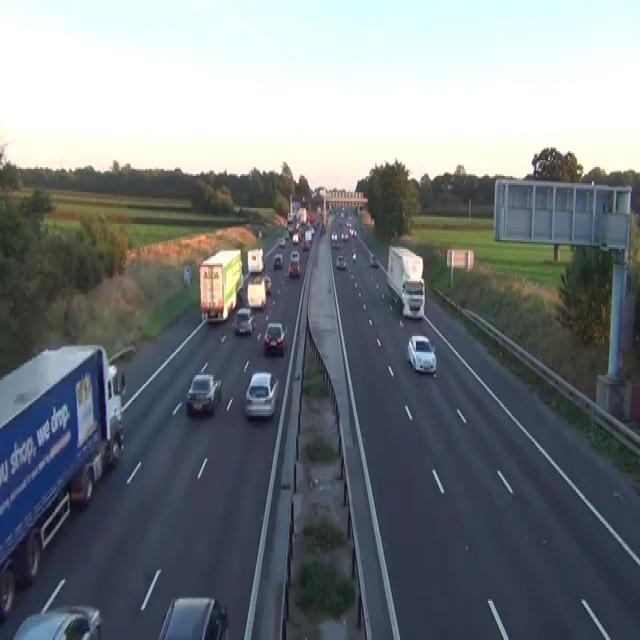Car: (11, 604, 102, 638), (157, 596, 229, 638), (330, 206, 357, 270), (185, 372, 222, 416), (244, 372, 279, 418), (406, 334, 436, 375), (401, 278, 424, 318), (263, 322, 285, 354), (234, 308, 255, 334), (108, 364, 125, 396), (288, 251, 301, 277), (336, 254, 347, 268), (273, 252, 282, 268), (263, 276, 271, 294), (304, 228, 313, 242), (441, 182, 455, 190), (370, 254, 378, 267), (292, 231, 300, 244), (289, 251, 299, 261), (319, 222, 326, 235), (331, 238, 339, 249), (340, 231, 348, 242), (330, 229, 337, 240), (278, 237, 285, 247), (302, 238, 308, 249), (287, 224, 293, 235), (446, 182, 454, 190), (310, 224, 315, 235), (352, 249, 356, 261), (283, 230, 289, 238), (351, 228, 356, 236), (258, 230, 262, 238)
Truck: (0, 341, 125, 619), (199, 247, 243, 322), (386, 244, 425, 318), (247, 274, 266, 309), (247, 247, 264, 274)
